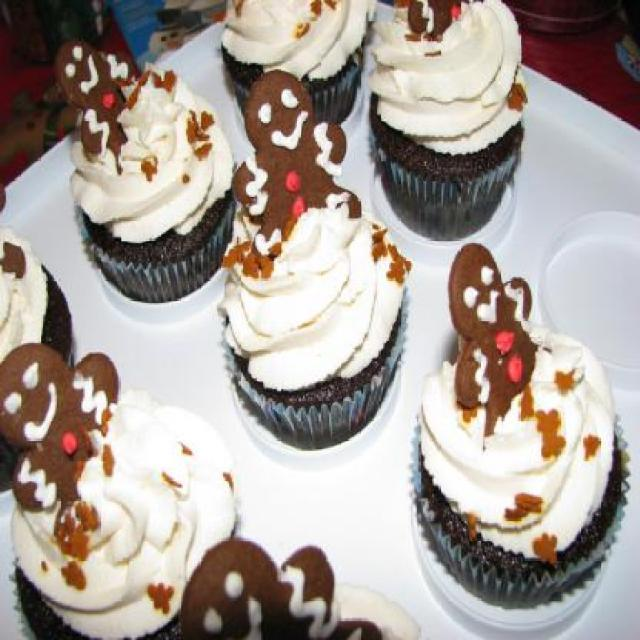Muffin: (410, 241, 630, 614), (0, 336, 238, 638), (214, 194, 408, 456), (50, 46, 238, 309), (359, 0, 533, 240), (178, 536, 422, 639), (0, 180, 80, 492), (217, 0, 380, 131)
